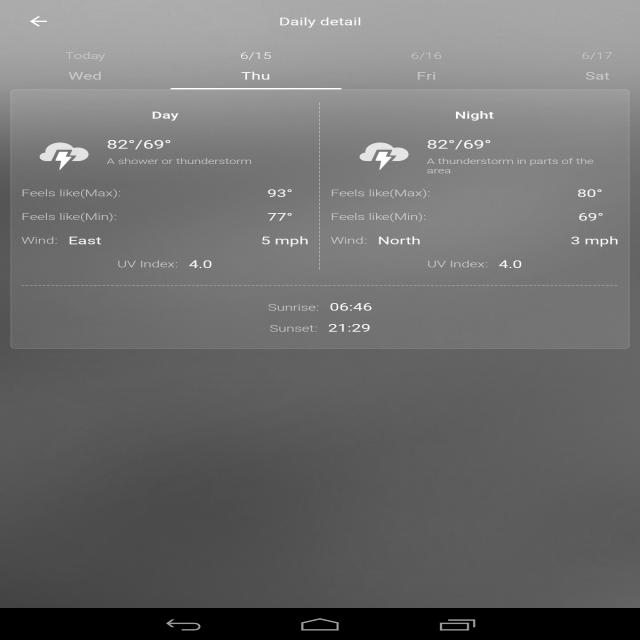ImageButton: (22, 10, 55, 31)
ImageView: (351, 139, 414, 175), (30, 138, 94, 168)
TextView: (275, 11, 378, 32), (264, 300, 386, 316), (426, 137, 493, 154), (560, 231, 622, 249), (452, 105, 508, 120), (234, 69, 282, 85)
